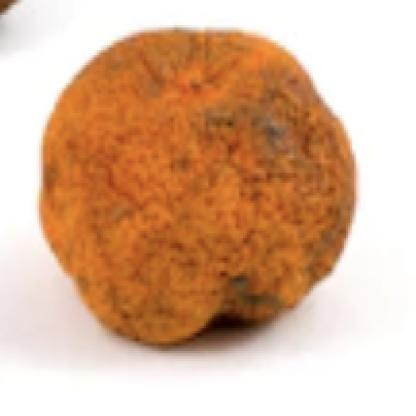rotten: (39, 29, 357, 346)
